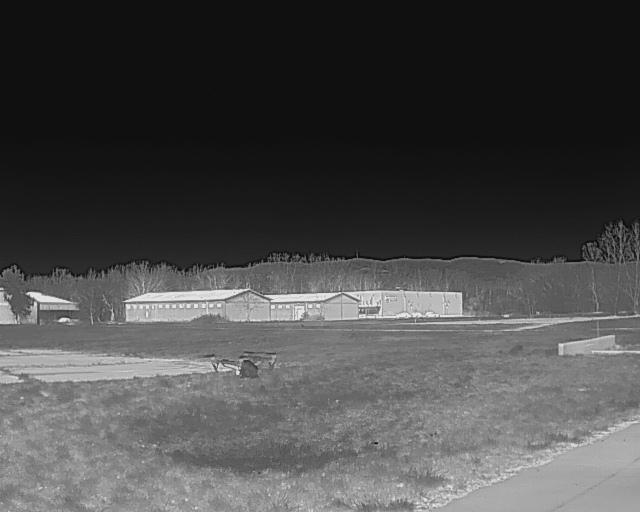drone: (200, 332, 281, 383)
